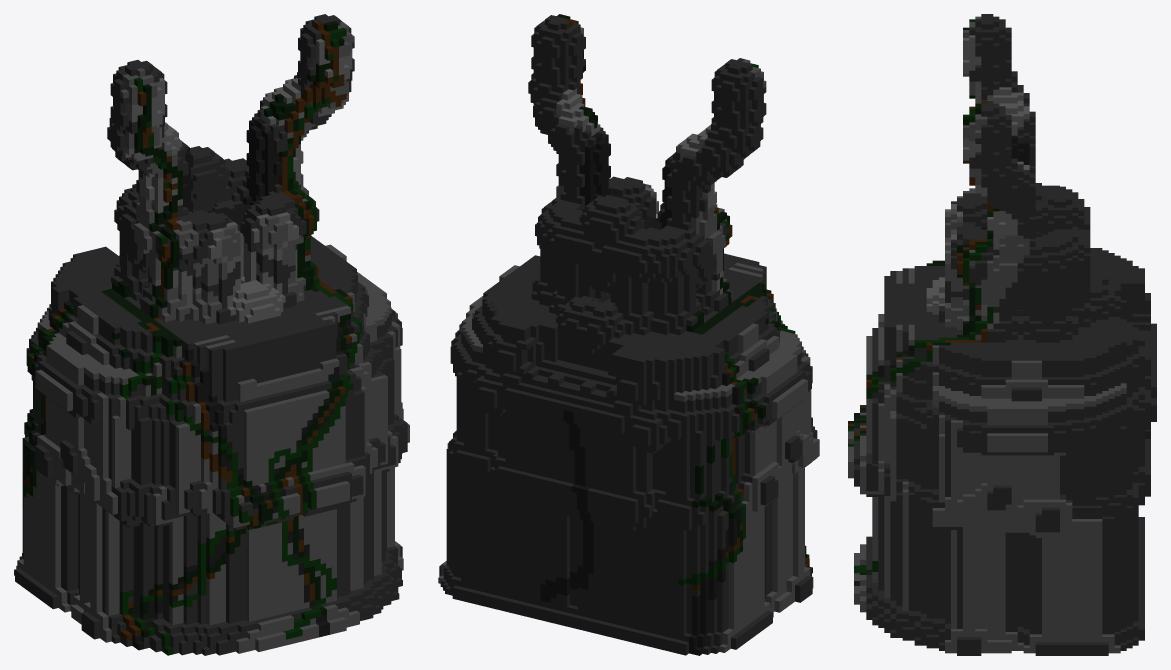
Rendered from Emitter_Stone.obj.
The picture shows the model from 3 angles, left to right: view 1: azimuth 30°, elevation 25°; view 2: azimuth 150°, elevation 25°; view 3: azimuth 270°, elevation 25°; orthographic projection. The views are drawn at different scales.
Size of the model in its own units: 6 by 9.5 by 5.1.
Materials: 1 (1 with a texture image).
